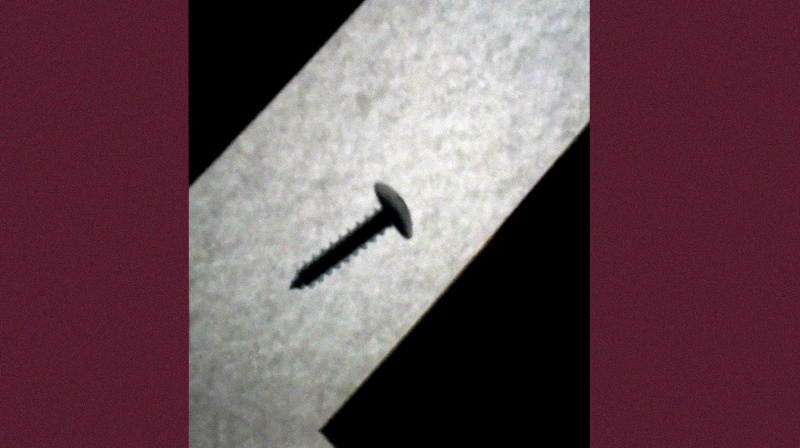S003: (285, 178, 414, 294)
